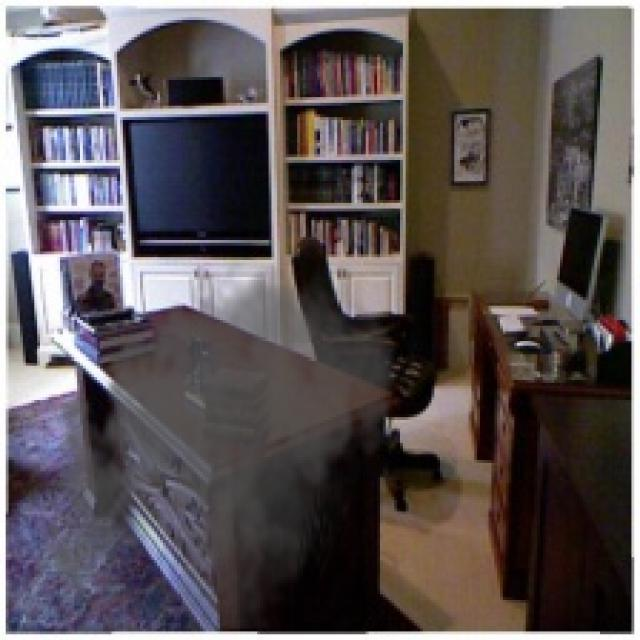smoke: (34, 248, 403, 628)
